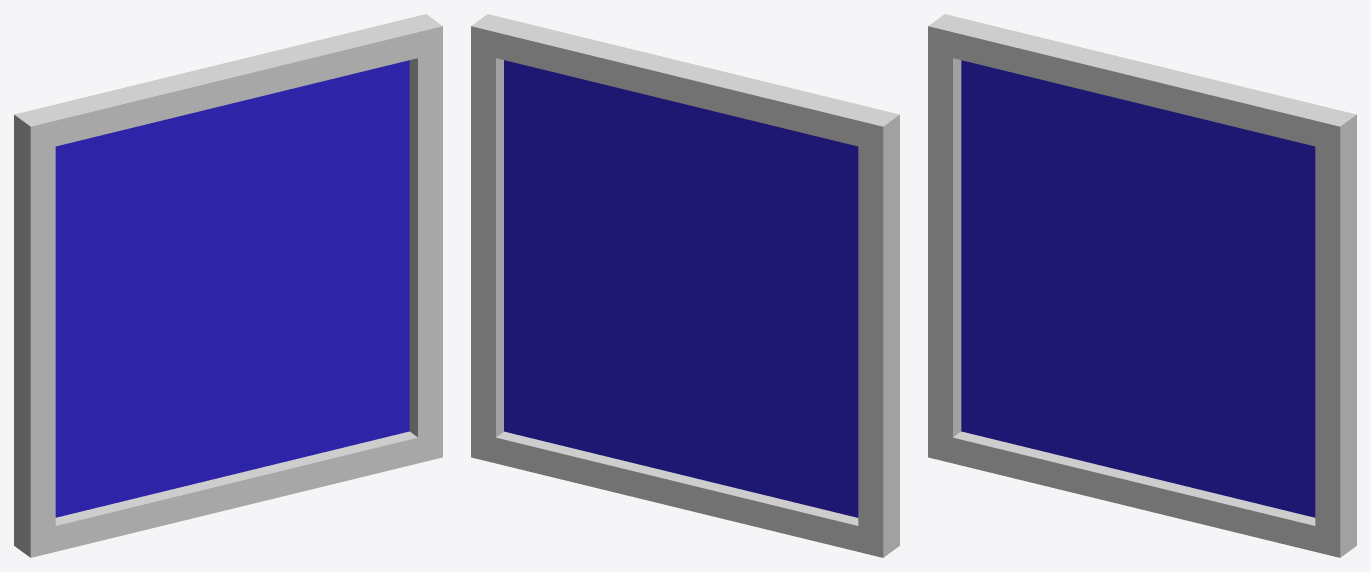
File: PaintingSimple_Cube.fbx
The picture shows the model from 3 angles, left to right: view 1: azimuth 30°, elevation 25°; view 2: azimuth 150°, elevation 25°; view 3: azimuth 330°, elevation 25°; orthographic projection.
Parts seen in each view (by area): view 1: Painting_Cube; view 2: Painting_Cube; view 3: Painting_Cube.
Boxes of the visible parts, x1,y1,x2,y2 form: Painting_Cube: (14,14,442,557); Painting_Cube: (471,14,899,557); Painting_Cube: (928,14,1356,557).
Bounding box in the file's own units: 234 × 234 × 16.37.
